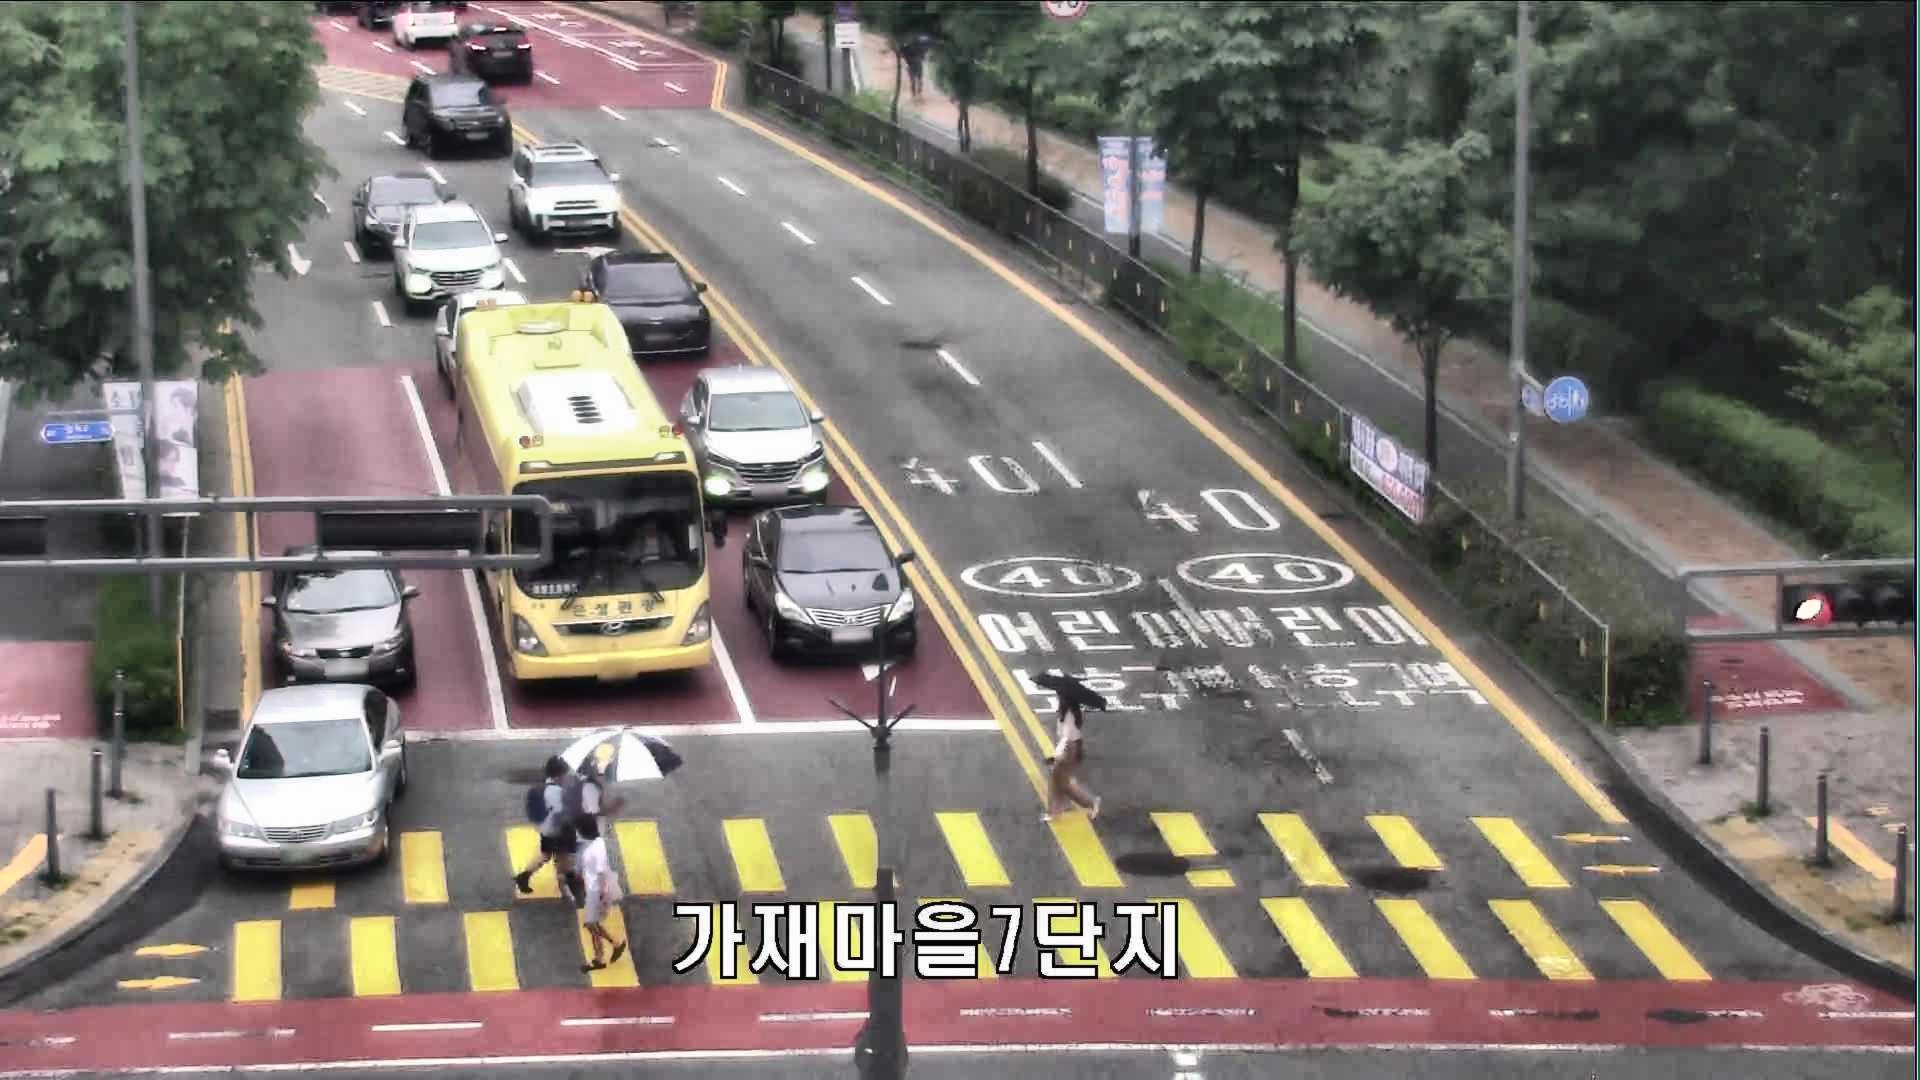crosswalk: (568, 812, 632, 973), (506, 750, 574, 897)
um_crosswalk: (556, 723, 684, 905), (1025, 666, 1112, 825)
